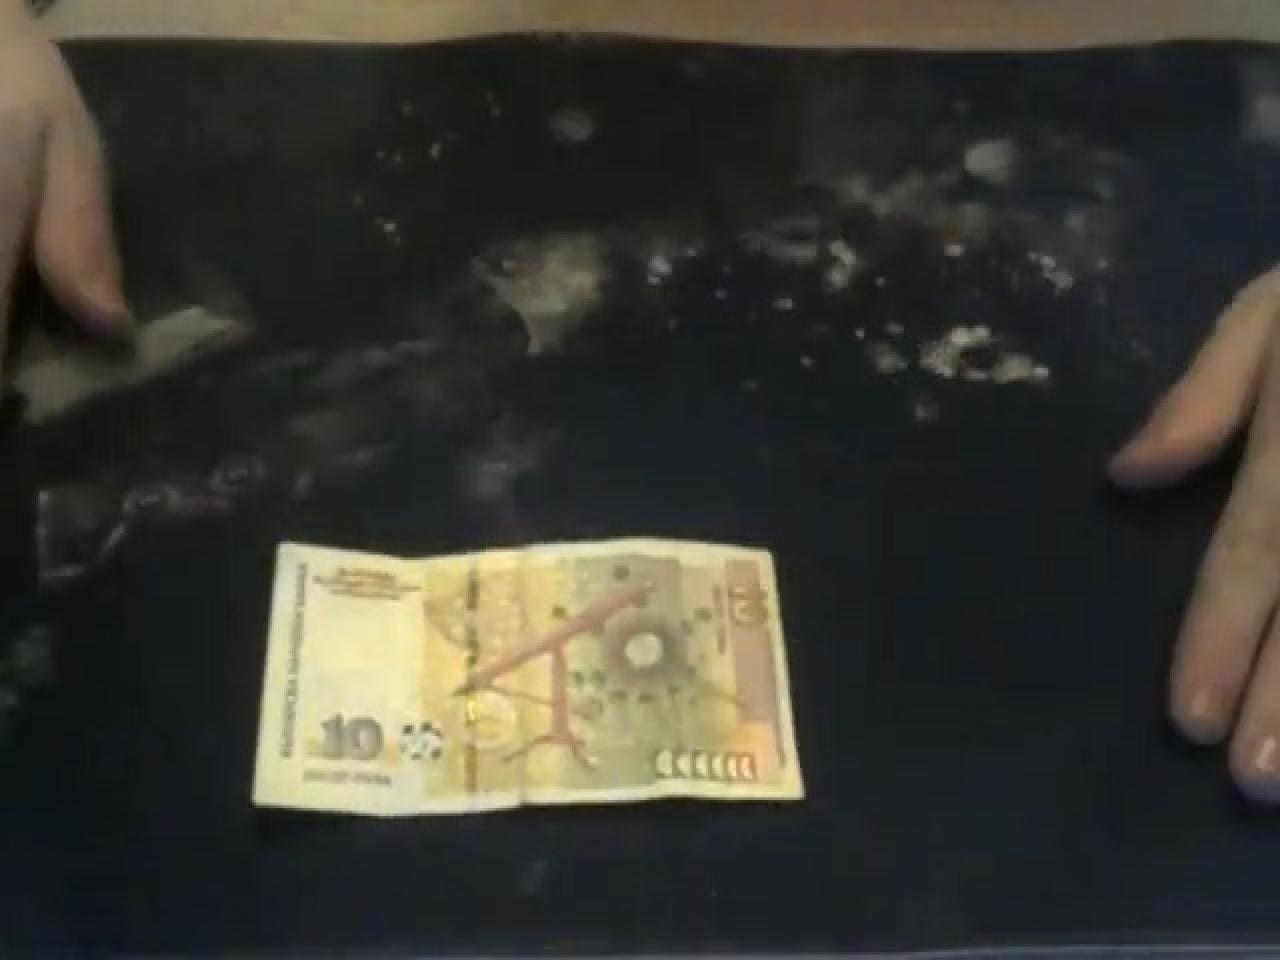10leva: (250, 539, 810, 821)
